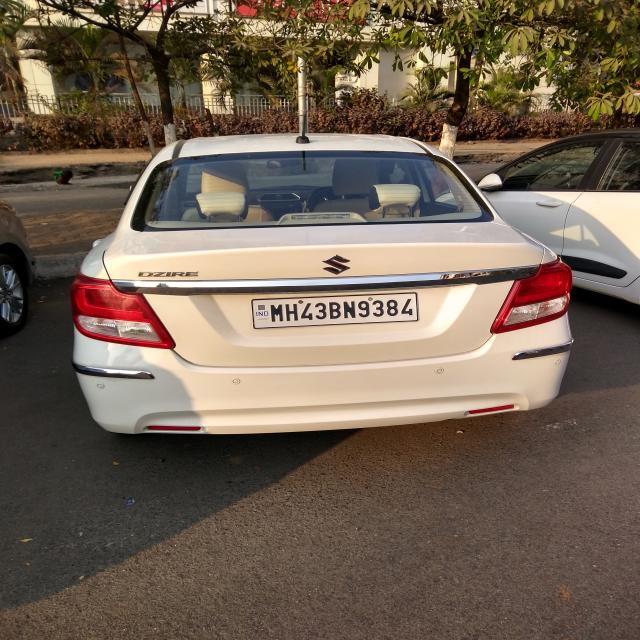Number-Plate: (252, 295, 420, 326)
